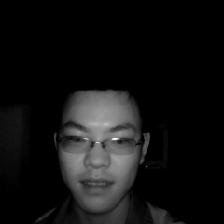happy: (44, 78, 159, 215)
